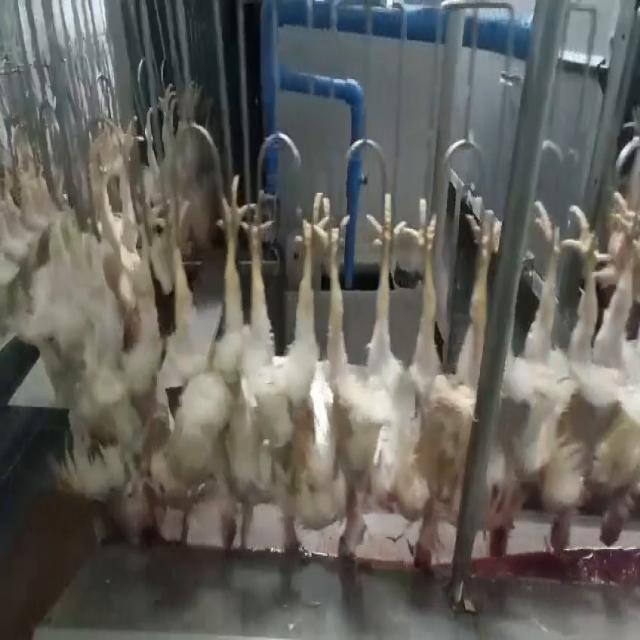chicken: (395, 190, 501, 578), (230, 180, 320, 562), (157, 166, 244, 533), (318, 190, 396, 574), (509, 204, 586, 553), (100, 174, 161, 542), (586, 183, 640, 551)
